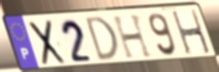2: (60, 16, 98, 66)
9: (149, 12, 177, 58)
D: (84, 15, 122, 63)
H: (111, 13, 155, 61), (170, 9, 213, 57)
X: (28, 19, 68, 68)
